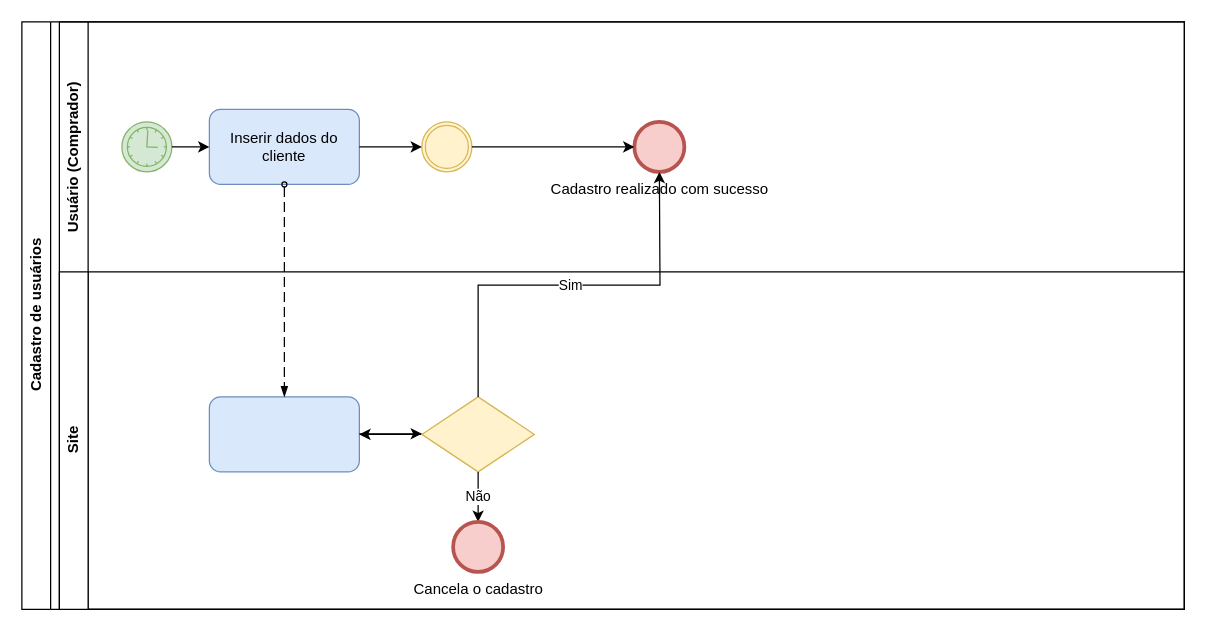
This 1206x631 diagram has some shape labels left out. Here are the shapes that lost their labels. From the top down, the centre of each, then its label:
pixel 446 146: Tempo para verificar dados
pixel 283 434: Verificação por dois fatores
pixel 477 434: Dados são válidos?
